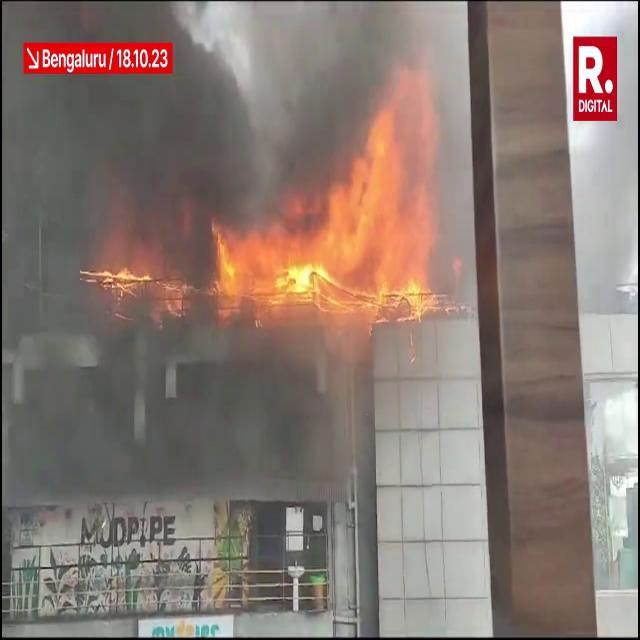Fire: (222, 138, 438, 320), (80, 255, 192, 316)
Smoke: (15, 3, 442, 220)
